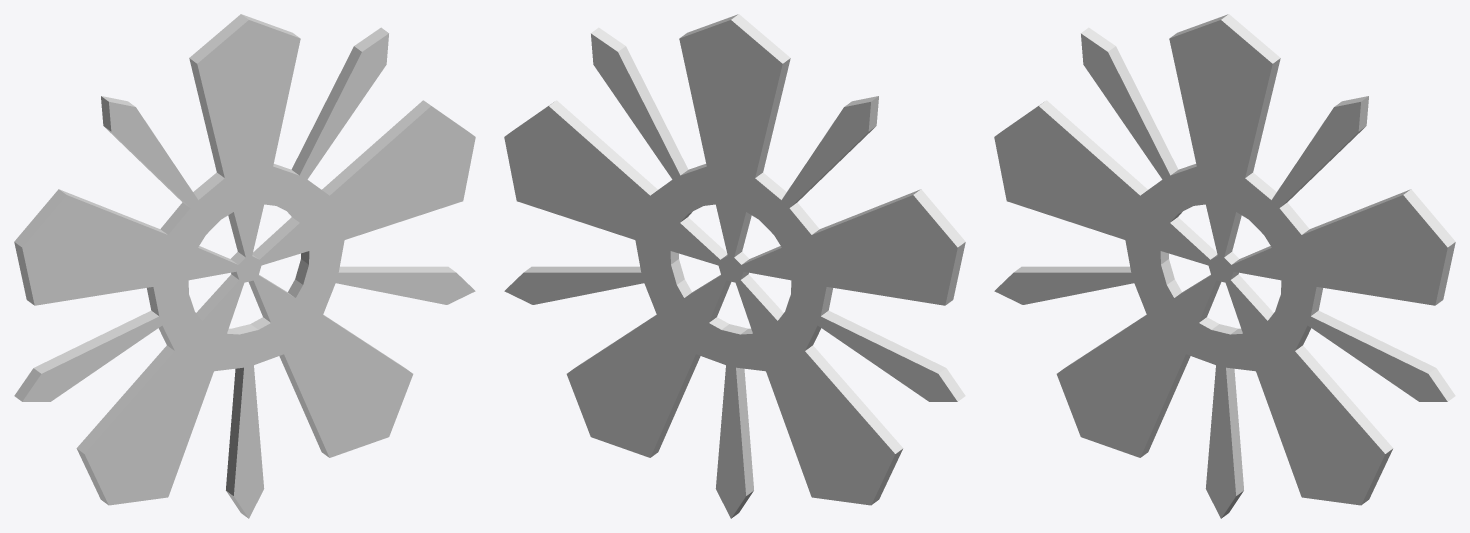
Rendered from Snowflake_03.fbx.
The picture shows the model from 3 angles, left to right: view 1: azimuth 30°, elevation 25°; view 2: azimuth 150°, elevation 25°; view 3: azimuth 330°, elevation 25°; orthographic projection.
Visible parts, largest first — view 1: Snowflake_03; view 2: Snowflake_03; view 3: Snowflake_03.
Boxes of the visible parts, x1,y1,x2,y2 form: Snowflake_03: (14, 14, 475, 518); Snowflake_03: (504, 14, 965, 518); Snowflake_03: (994, 14, 1455, 518).
Size of the model in its own units: 0.2374 by 0.2497 by 0.00728.
